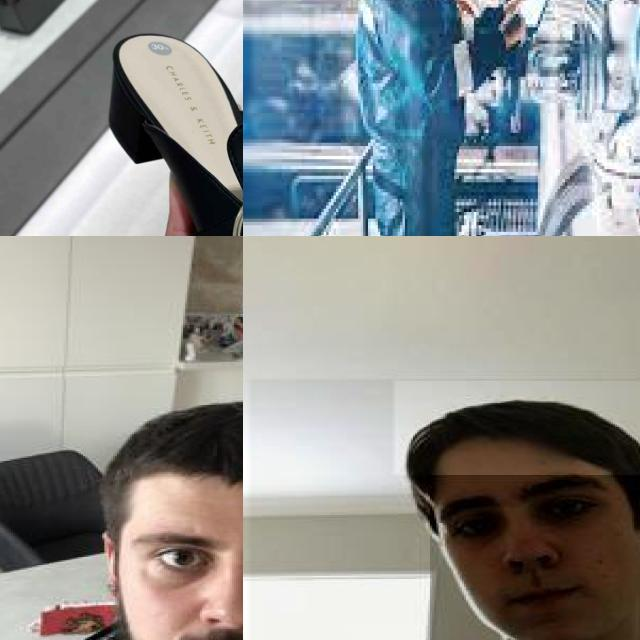No_Ear-Protection: (72, 529, 137, 596), (629, 491, 640, 562)
No_Glasses: (118, 512, 243, 590)
Sandals: (71, 5, 243, 236)
face_nomask: (430, 475, 640, 640), (121, 502, 243, 640)
head_nohelmet: (393, 380, 640, 475), (102, 426, 243, 506)
person: (249, 378, 640, 640), (0, 405, 243, 640), (352, 0, 527, 236)
